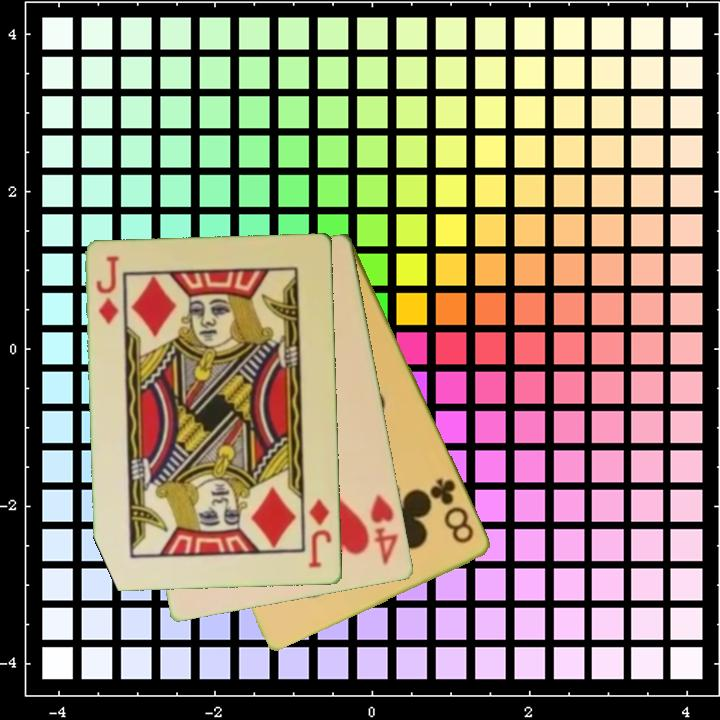4h: (367, 491, 402, 569)
8c: (426, 474, 478, 547)
Jd: (93, 253, 123, 327), (306, 496, 335, 571)
